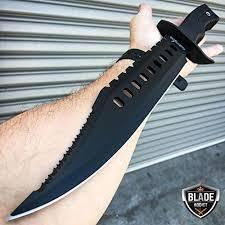Knife: (10, 2, 219, 218)
